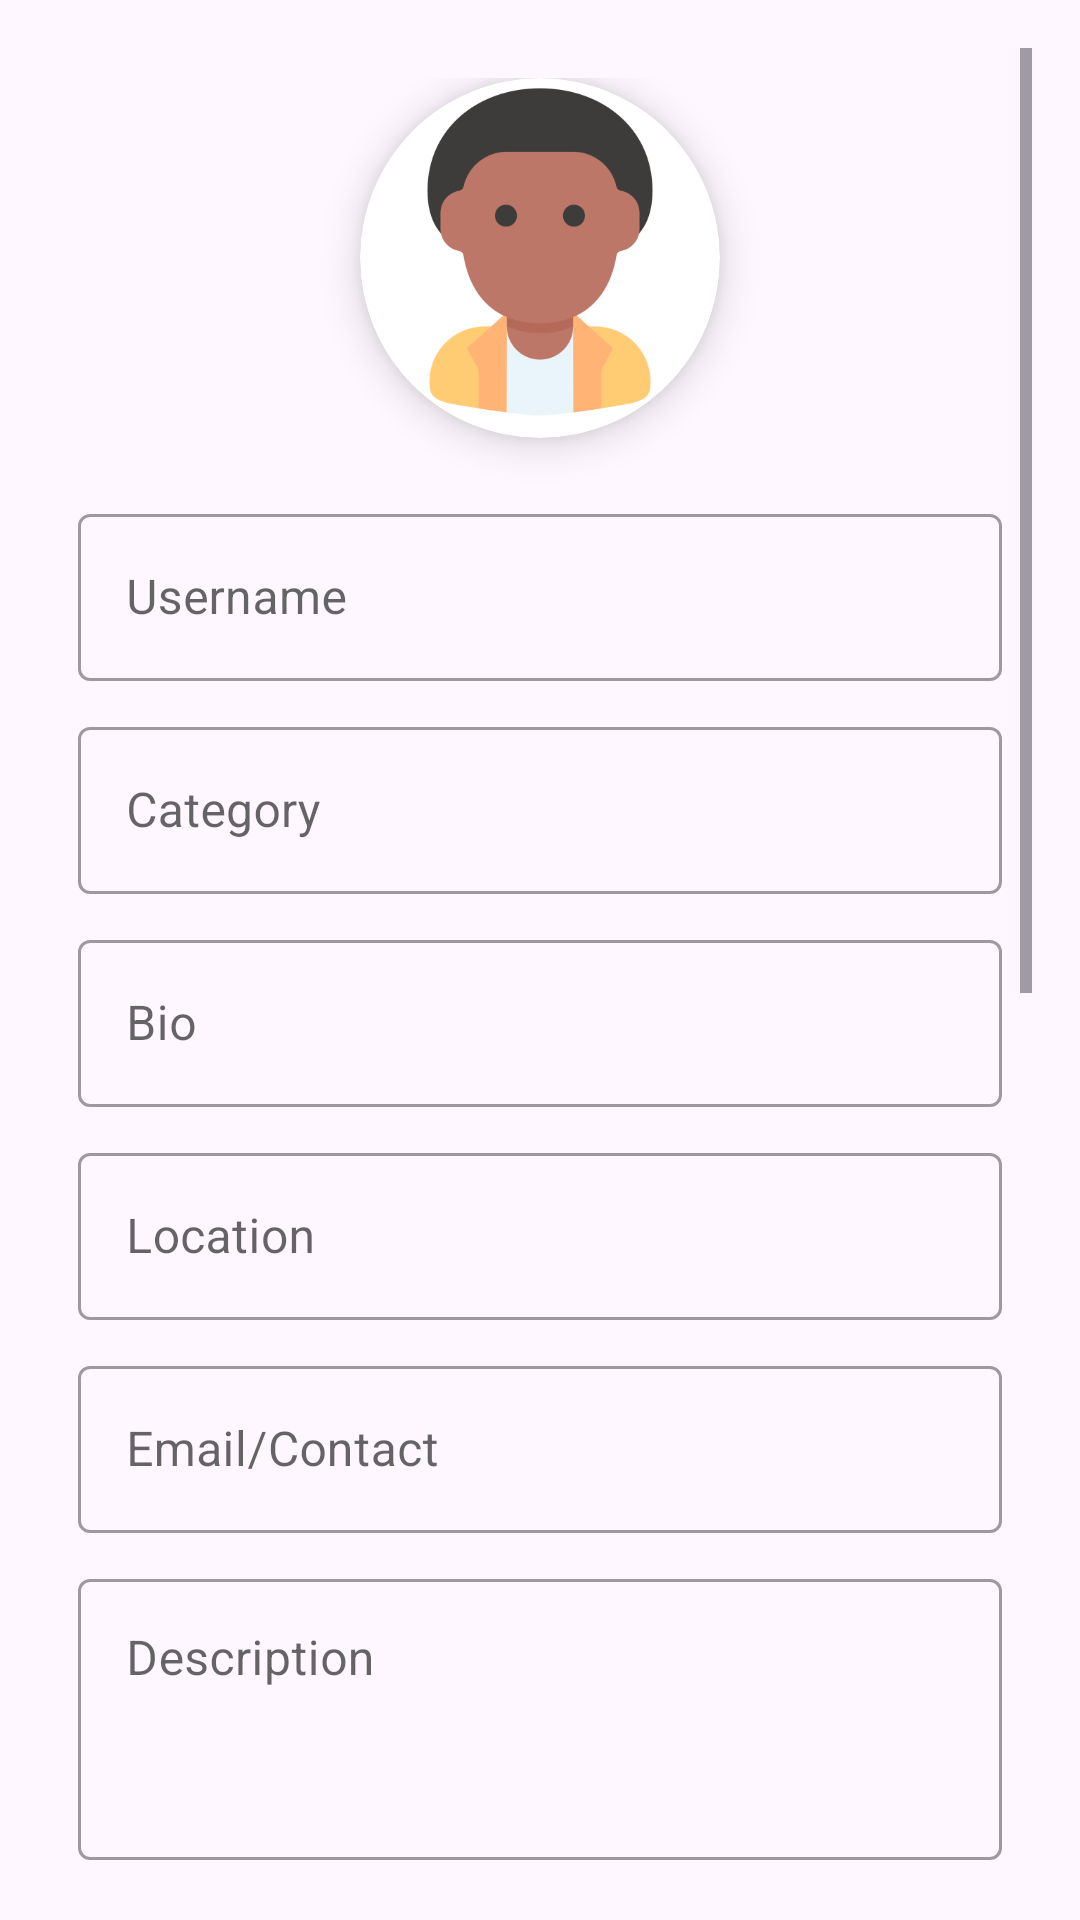

Screen size 1080w x 1920h. Icon name, then its center in pixels as (x=x, y=y):
Profile: (x=540, y=258)
